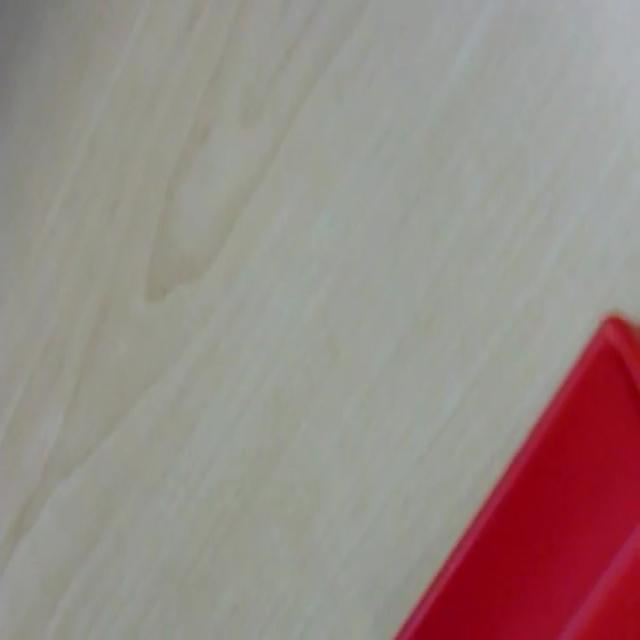red_block: (392, 310, 638, 638)
